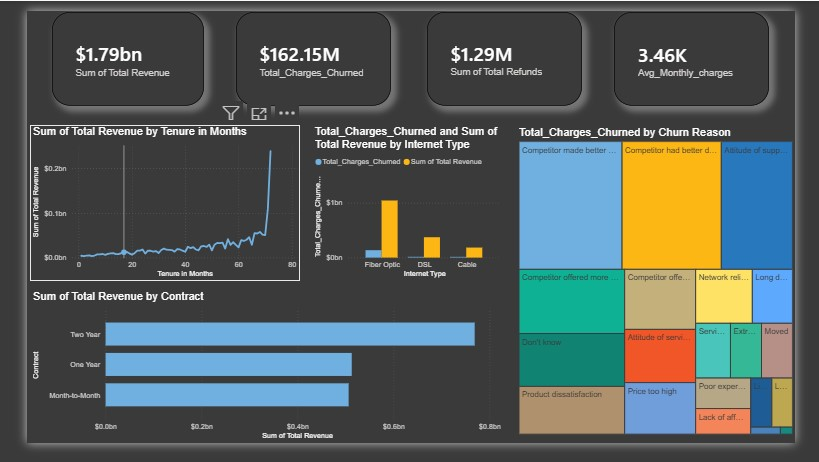

This screenshot's page, from the dashboard's own definition file:
{"tool":"powerbi","page":{"name":"Revenue & Financial Impact","canvas":[1280,720],"ordinal":1},"visuals":[{"type":"cardVisual","fields":{"Data":["Sum(telecom_customer_churn.Total Revenue)"]},"box":[41.6,1.8,253.3,156.5],"z":0},{"type":"cardVisual","fields":{"Data":["telecom_customer_churn.Total_Charges_Churned"]},"box":[347.5,1.2,257.5,156.2],"z":1000},{"type":"cardVisual","fields":{"Data":["Sum(telecom_customer_churn.Total Refunds)"]},"box":[666.7,1.8,257.8,155.6],"z":2000},{"type":"cardVisual","fields":{"Data":["telecom_customer_churn.Avg_Monthly_charges"]},"box":[978.8,1.8,257.8,156.5],"z":3000},{"type":"lineChart","fields":{"Category":["telecom_customer_churn.Tenure in Months"],"Y":["Sum(telecom_customer_churn.Total Revenue)"]},"box":[4.3,190,451.4,260],"z":4000},{"type":"barChart","fields":{"Category":["telecom_customer_churn.Contract"],"Y":["Sum(telecom_customer_churn.Total Revenue)"]},"box":[4.3,465.7,790,254.3],"z":5000},{"type":"treemap","fields":{"Group":["telecom_customer_churn.Churn Reason"],"Values":["telecom_customer_churn.Total_Charges_Churned"]},"box":[814.3,191.4,465.7,518.6],"z":6000},{"type":"clusteredColumnChart","fields":{"Category":["telecom_customer_churn.Internet Type"],"Y":["telecom_customer_churn.Total_Charges_Churned","Sum(telecom_customer_churn.Total Revenue)"]},"box":[475.7,190,320,260],"z":7000}]}

Visuals, with their boxes in screenshot pixels (x1, y1, x2, y2), scaled from the page's 1280x720 canvas onto the 819x462 screenshot:
cardVisual - Sum(telecom_customer_churn.Total Revenue): [27, 1, 189, 102]
cardVisual - telecom_customer_churn.Total_Charges_Churned: [222, 1, 387, 101]
cardVisual - Sum(telecom_customer_churn.Total Refunds): [427, 1, 592, 101]
cardVisual - telecom_customer_churn.Avg_Monthly_charges: [626, 1, 791, 102]
lineChart - telecom_customer_churn.Tenure in Months x Sum(telecom_customer_churn.Total Revenue): [3, 122, 292, 289]
barChart - telecom_customer_churn.Contract x Sum(telecom_customer_churn.Total Revenue): [3, 299, 508, 461]
treemap - telecom_customer_churn.Churn Reason x telecom_customer_churn.Total_Charges_Churned: [521, 123, 818, 456]
clusteredColumnChart - telecom_customer_churn.Internet Type x telecom_customer_churn.Total_Charges_Churned: [304, 122, 509, 289]
